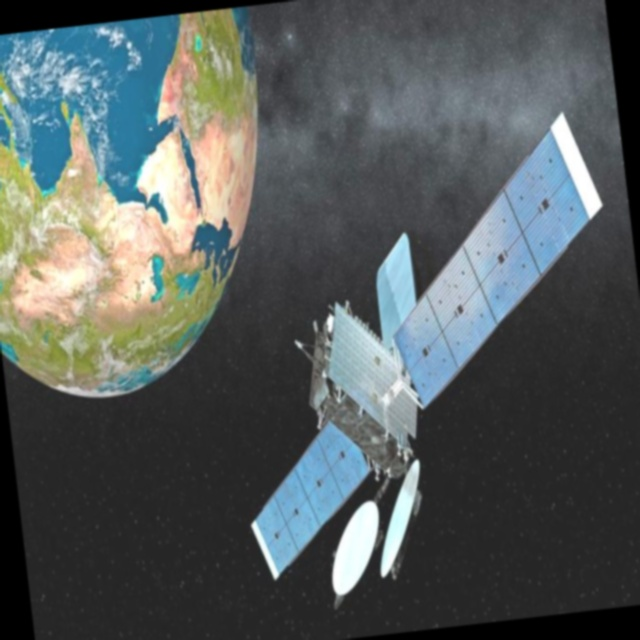medium_debris: (199, 96, 640, 613)
